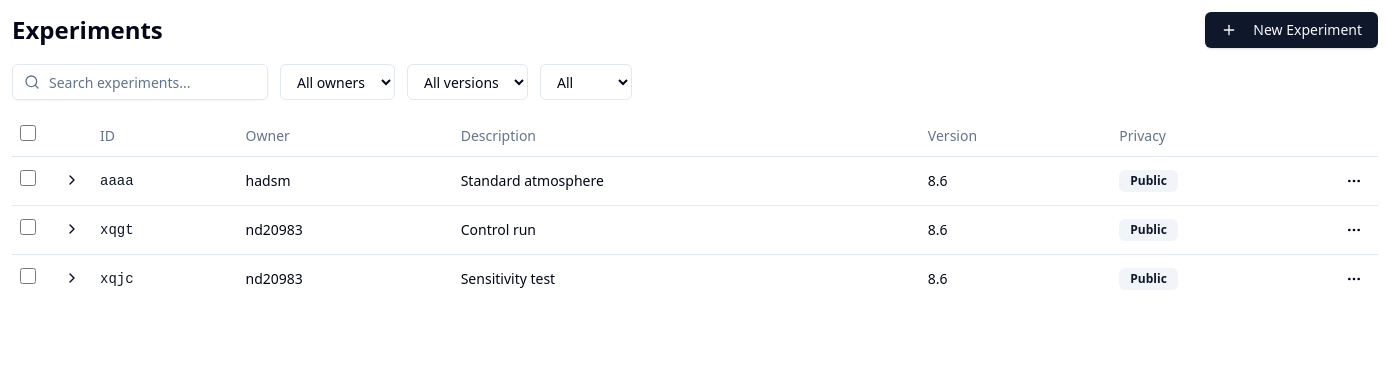
Scenario: ExplorerPage › shows bulk actions when experiments selected
Step 1. Click the checkbox named "Select aaaa" → (28, 178), box [20,170,36,186]
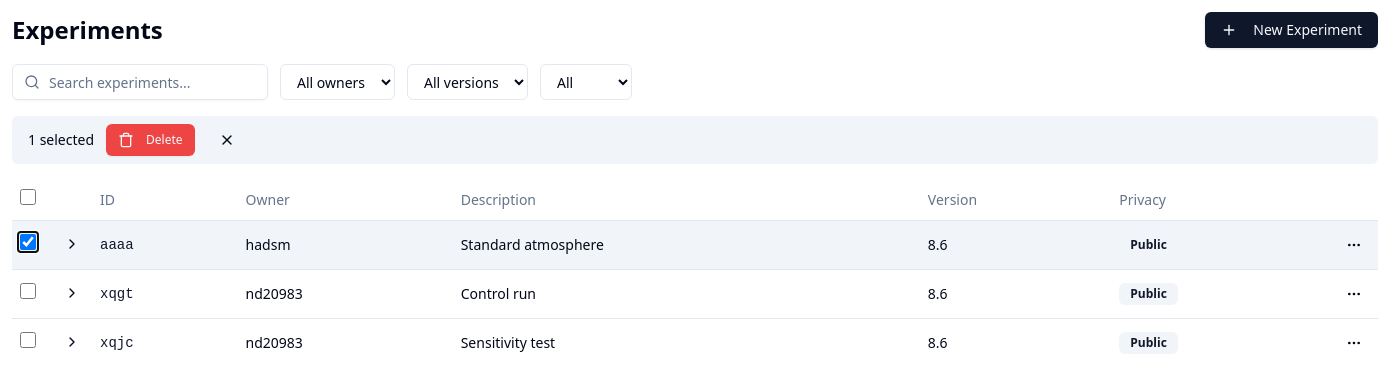
Now the text "1 selected" is shown, box [28,130,94,150]
